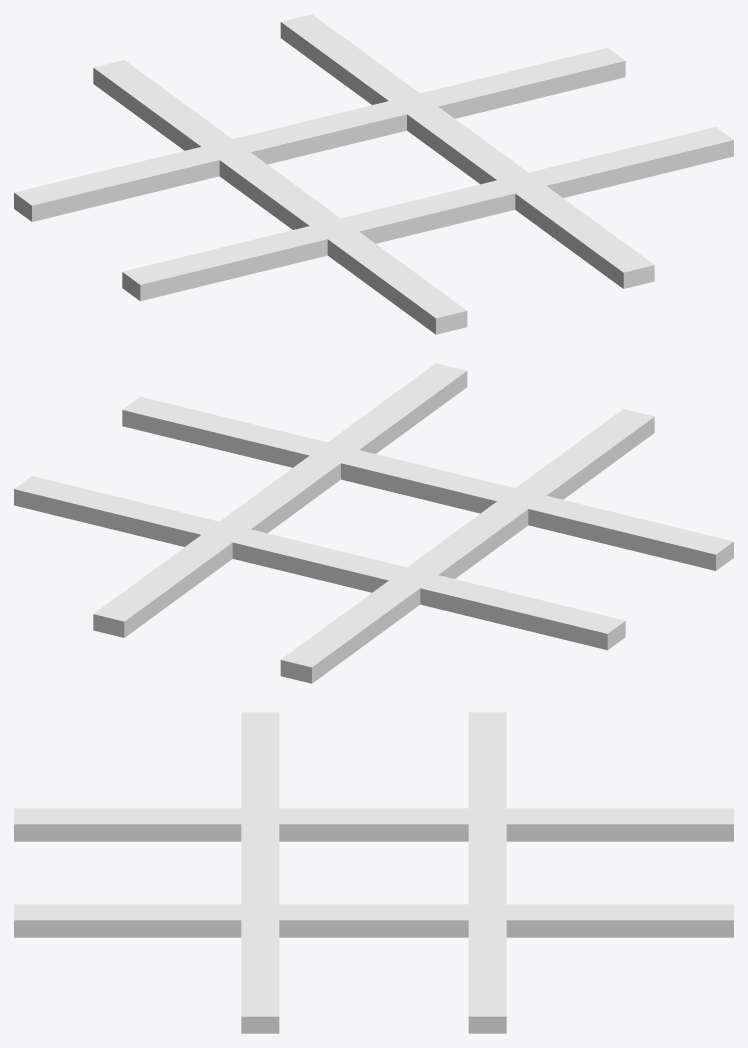
The picture shows the model from 3 angles, top to bottom: view 1: azimuth 30°, elevation 25°; view 2: azimuth 150°, elevation 25°; view 3: azimuth 270°, elevation 25°; orthographic projection. The views are drawn at different scales.
Visible parts, largest first — view 1: Grid; view 2: Grid; view 3: Grid.
Boxes of the visible parts, bbox=[...] form: Grid: bbox=[14, 14, 733, 334]; Grid: bbox=[14, 363, 733, 683]; Grid: bbox=[14, 712, 733, 1033].
Size of the model in its own units: 238 by 6.25 by 238.
Materials: 1 (1 with a texture image).
